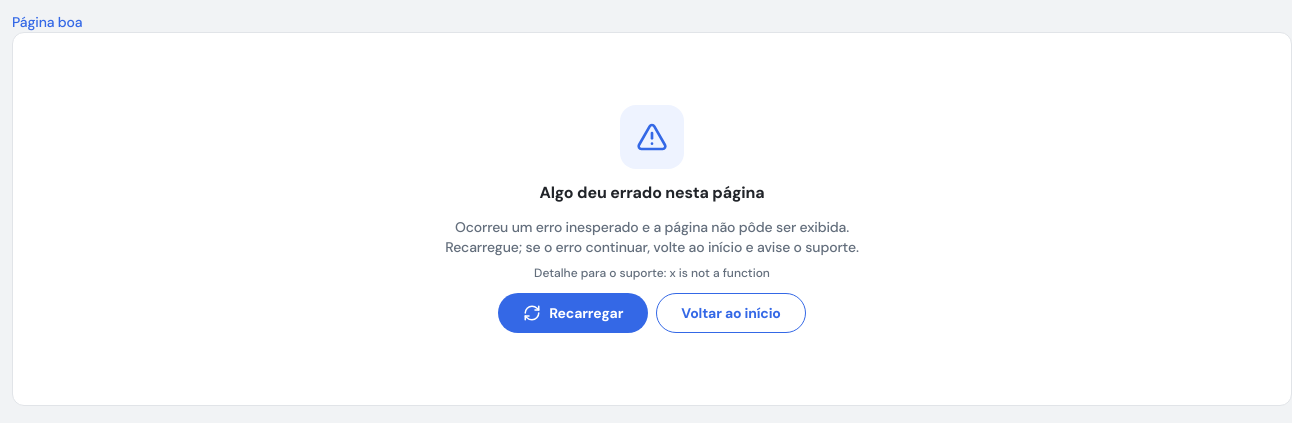
Test: tela de erro › errorElement: o erro de uma página aparece dentro da moldura, e as outras páginas continuam abrindo
Expected: the heading "Algo deu errado nesta página" is shown, [539, 181, 764, 205]
a moldura (menu) continua na tela
Click the link "Página boa". click: (47, 22)
box: [12, 13, 82, 31]
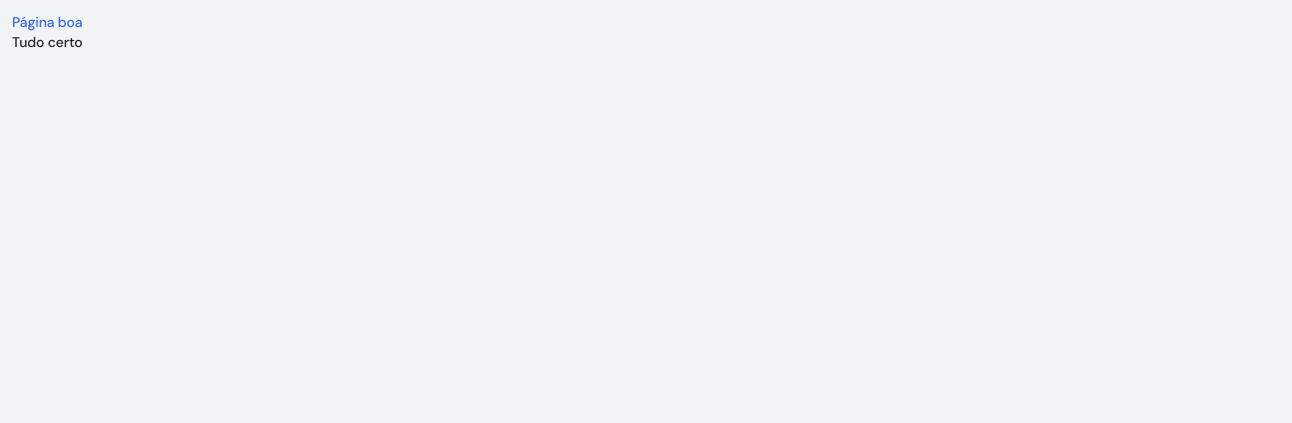
Now the text "Tudo certo" is shown, box [12, 33, 82, 51]
Now the message "Algo deu errado nesta página Ocorreu um erro inesperado e a página não pôde ser" is gone
